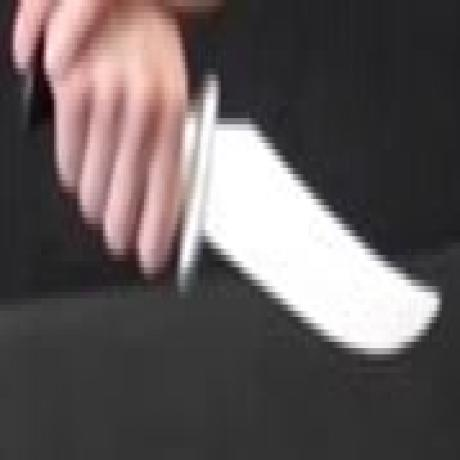1: (36, 0, 186, 287)
weapon: (166, 62, 445, 372)
